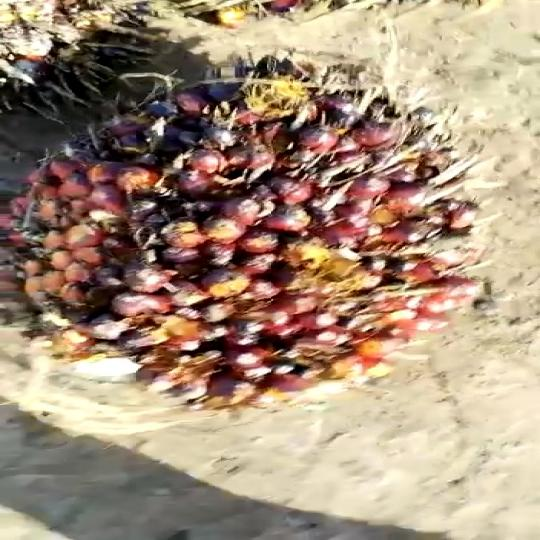masak: (0, 59, 503, 397)
